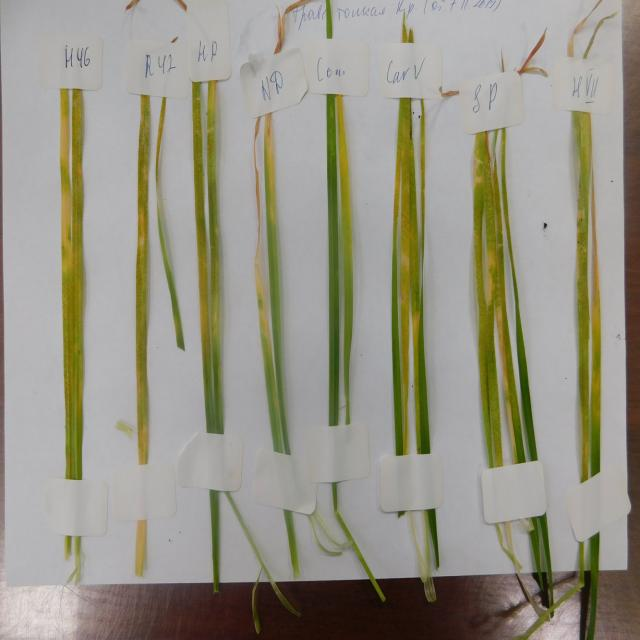wheat-yellowrust: (474, 134, 538, 470), (193, 84, 225, 435), (396, 99, 426, 456), (60, 91, 84, 480), (572, 113, 592, 477), (136, 96, 155, 468), (337, 96, 356, 413)
